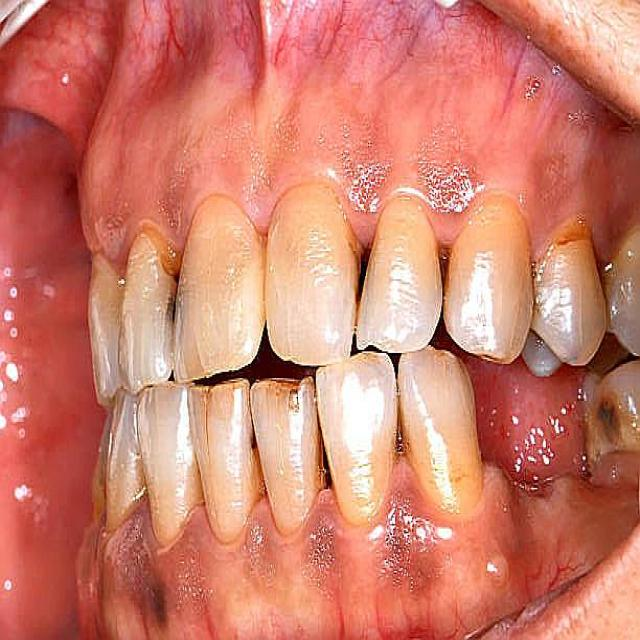caries: (142, 224, 189, 326), (588, 379, 636, 450), (546, 201, 596, 257), (268, 370, 312, 426)
